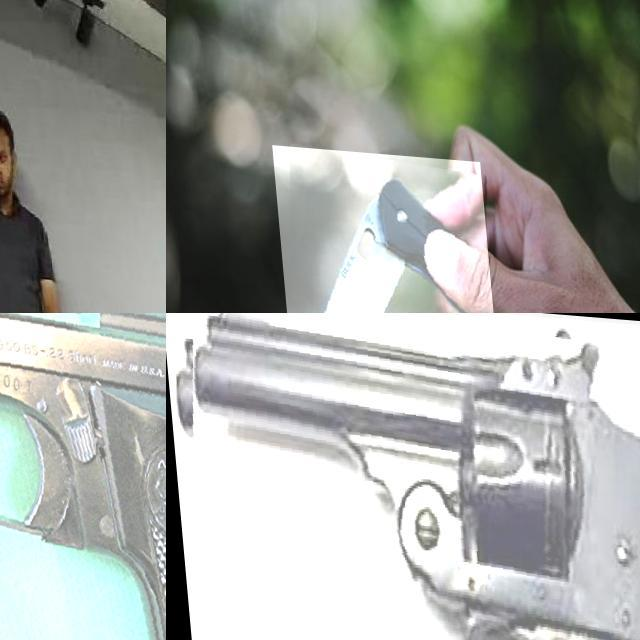-: (268, 142, 494, 313)
gun-knife-thesis - v11 Yolov5 augmented: (166, 313, 640, 640), (0, 313, 166, 640)
